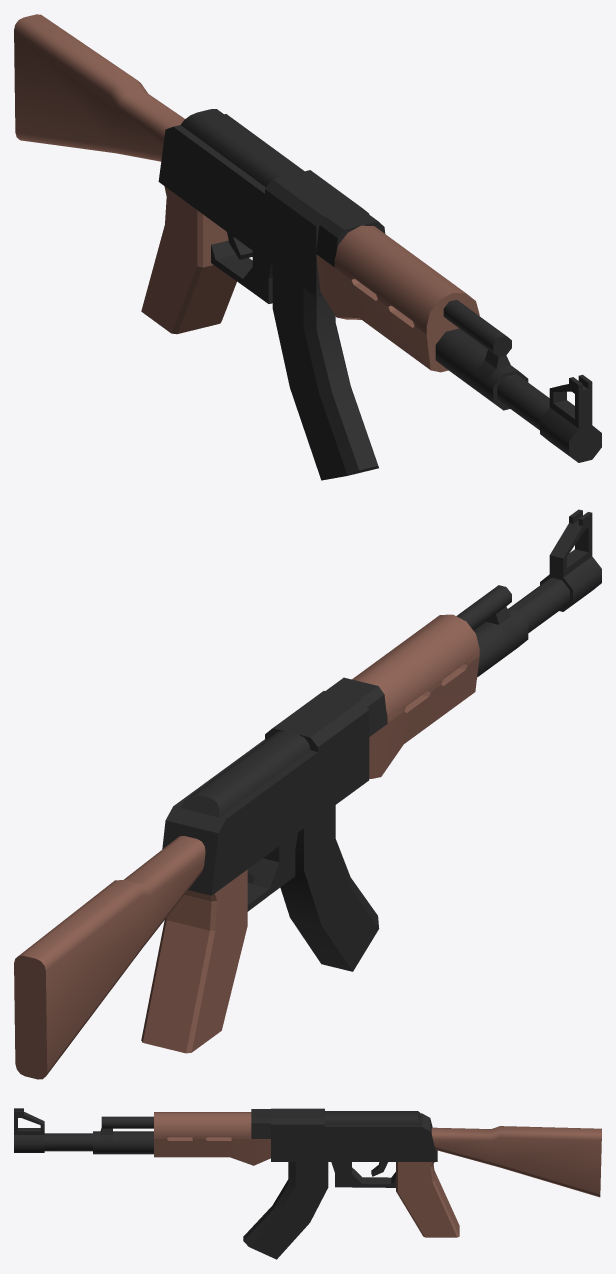
3 renders of one model, top to bottom at view 1: azimuth 30°, elevation 25°; view 2: azimuth 150°, elevation 25°; view 3: azimuth 270°, elevation 25°, orthographic. The views are drawn at different scales.
Visible parts, largest first — view 1: AK47 Body; view 2: AK47 Body; view 3: AK47 Body.
Part boxes in pixels (left/top/right/bottom): AK47 Body: left=14, top=14, right=601, bottom=480; AK47 Body: left=14, top=509, right=601, bottom=1079; AK47 Body: left=14, top=1108, right=601, bottom=1259.
Size of the model in its own units: 10.94 by 54.24 by 199.
